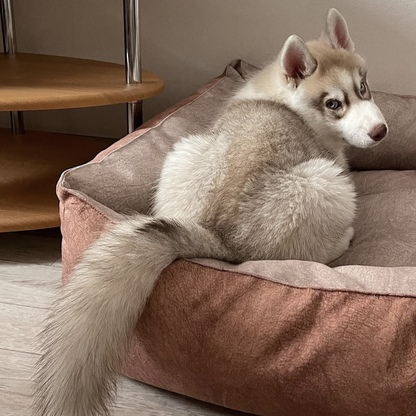husky: (23, 3, 396, 416)
